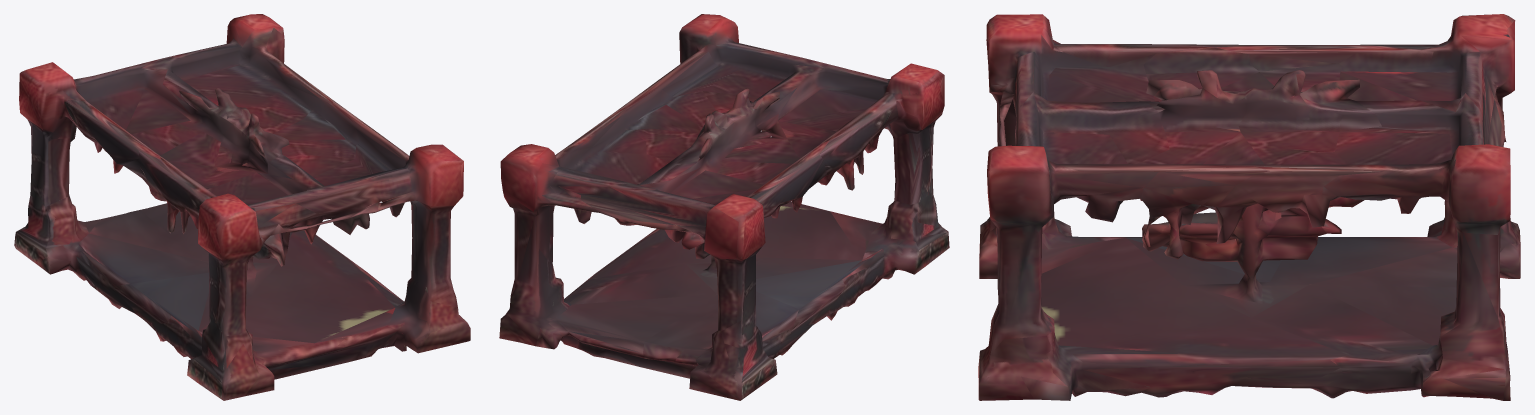
The model's file is CF_MonsterAltar.fbx.
The picture shows the model from 3 angles, left to right: view 1: azimuth 30°, elevation 25°; view 2: azimuth 150°, elevation 25°; view 3: azimuth 270°, elevation 25°; orthographic projection. The views are drawn at different scales.
Parts seen in each view (by area): view 1: CF_MonsterAltar; view 2: CF_MonsterAltar; view 3: CF_MonsterAltar.
Boxes of the visible parts, <box> form: CF_MonsterAltar: <box>14,14,470,400</box>; CF_MonsterAltar: <box>499,14,949,400</box>; CF_MonsterAltar: <box>978,14,1520,400</box>.
Size of the model in its own units: 4.08 by 3.26 by 5.99.
